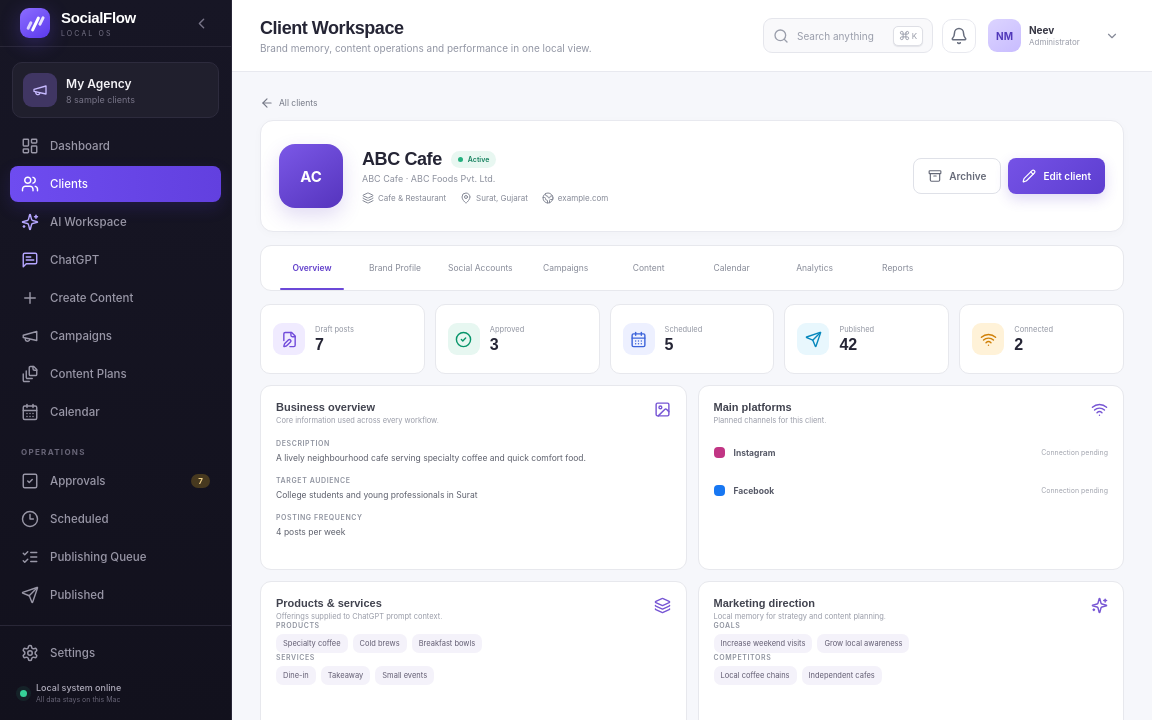
Test case: Phase 2 client and brand management › opens the client workspace and displays its Brand Profile
The width and height of the screenshot is (1152, 720).
Expected: the heading "ABC Cafe" is shown, [362,148,442,170]
Click the button "Brand Profile" at (395, 268), box [354,246,436,290]
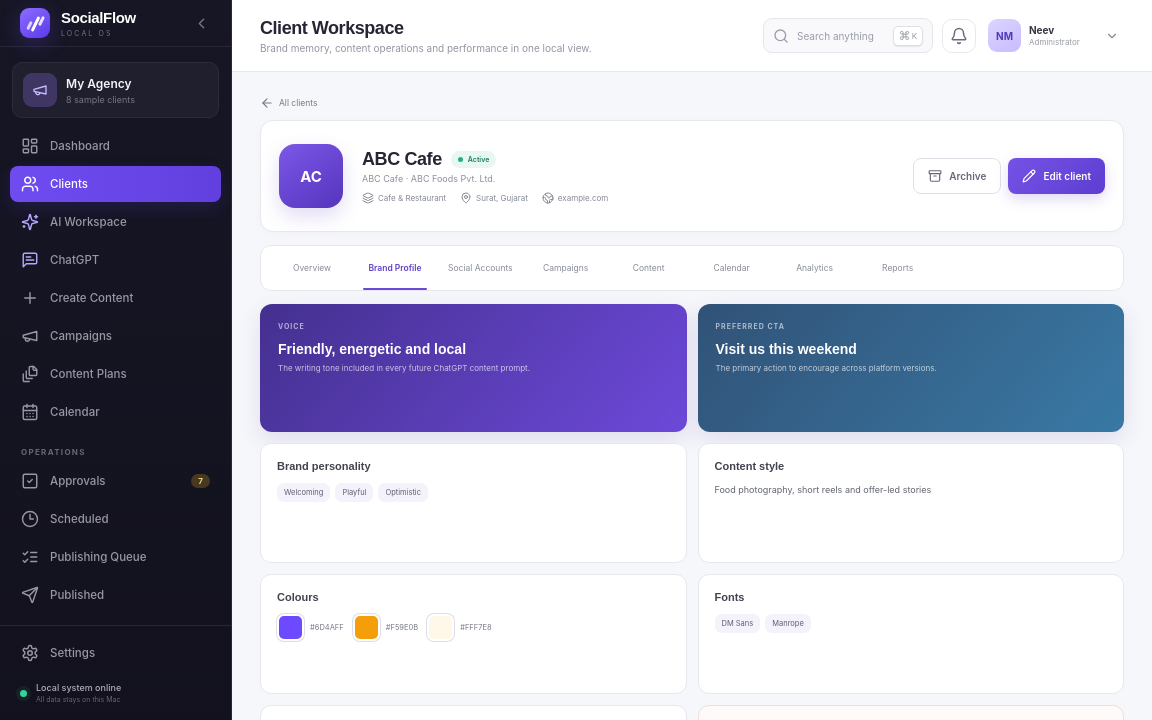
Now the heading "Friendly, energetic and local" is shown, box [278,341,466,357]
Now the heading "Visit us this weekend" is shown, box [716,341,857,357]
